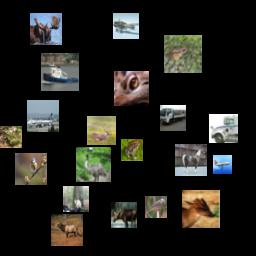airplane: (27, 100, 59, 132), (113, 13, 139, 39), (213, 155, 232, 174)
bird: (76, 147, 111, 182), (15, 153, 47, 185), (145, 196, 167, 218)
cat: (114, 71, 149, 106), (63, 186, 89, 212)
deer: (182, 190, 220, 228), (30, 13, 62, 45), (51, 214, 83, 246), (87, 116, 116, 145), (111, 202, 137, 228)
frog: (164, 35, 202, 73), (121, 139, 143, 161), (0, 126, 22, 148)
ship: (41, 53, 79, 91)
truck: (209, 114, 238, 143), (160, 105, 186, 131)
